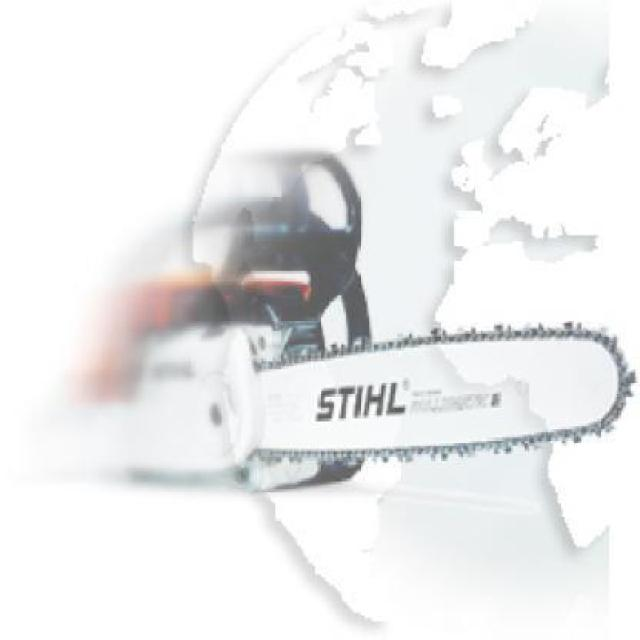Chainsaw: (81, 152, 638, 496)
